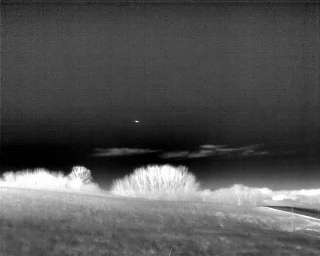AIRPLANE: (133, 118, 140, 124)
